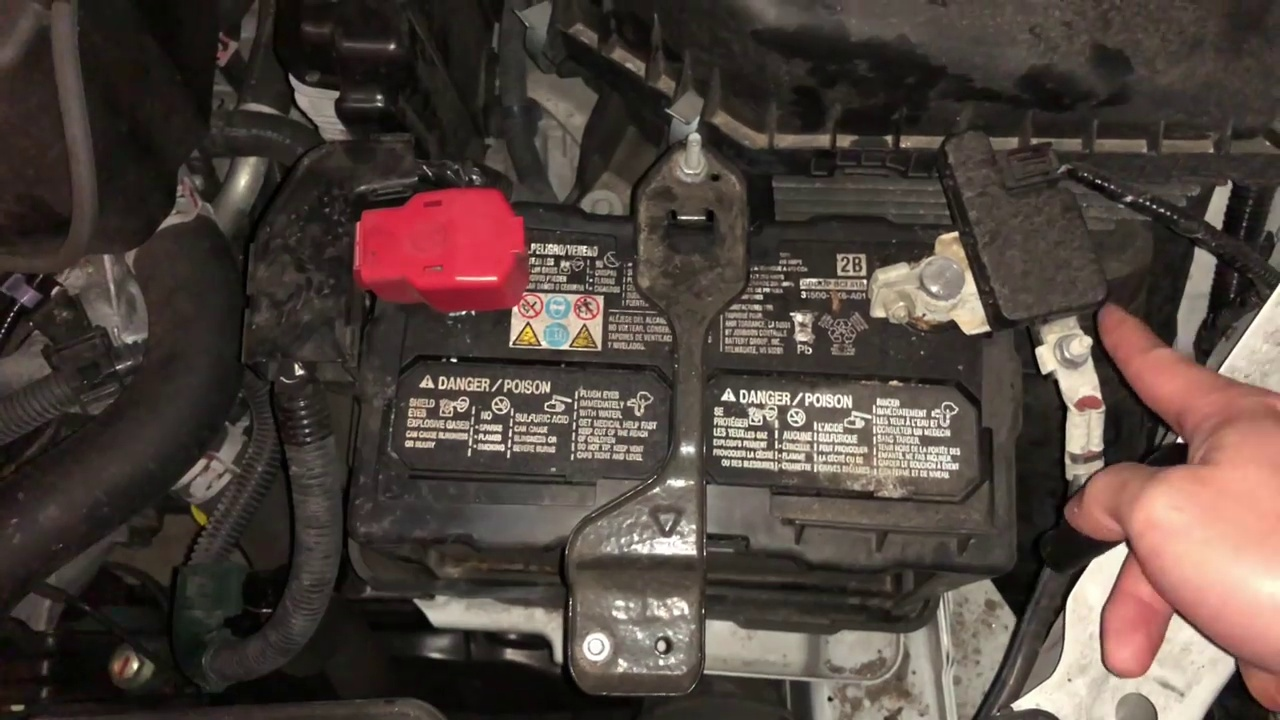battery: (347, 178, 1016, 582)
neg_connected: (840, 185, 1035, 338)
pos_connected: (328, 196, 556, 317)
